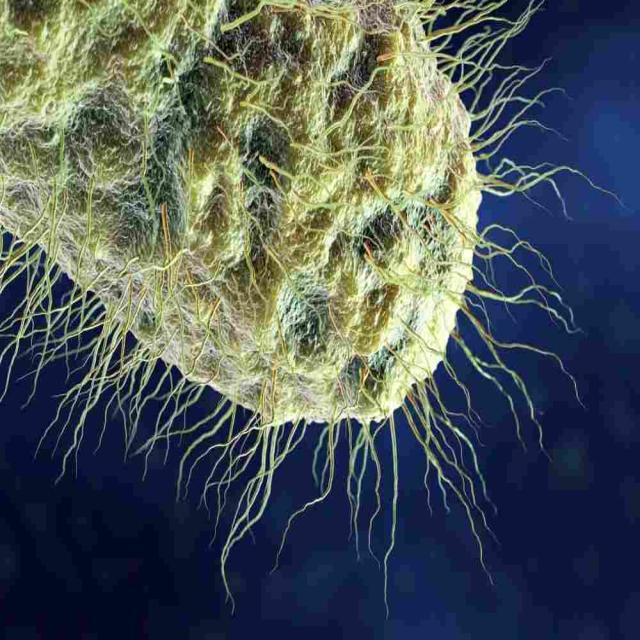Rod_bacteria: (2, 2, 629, 620)
